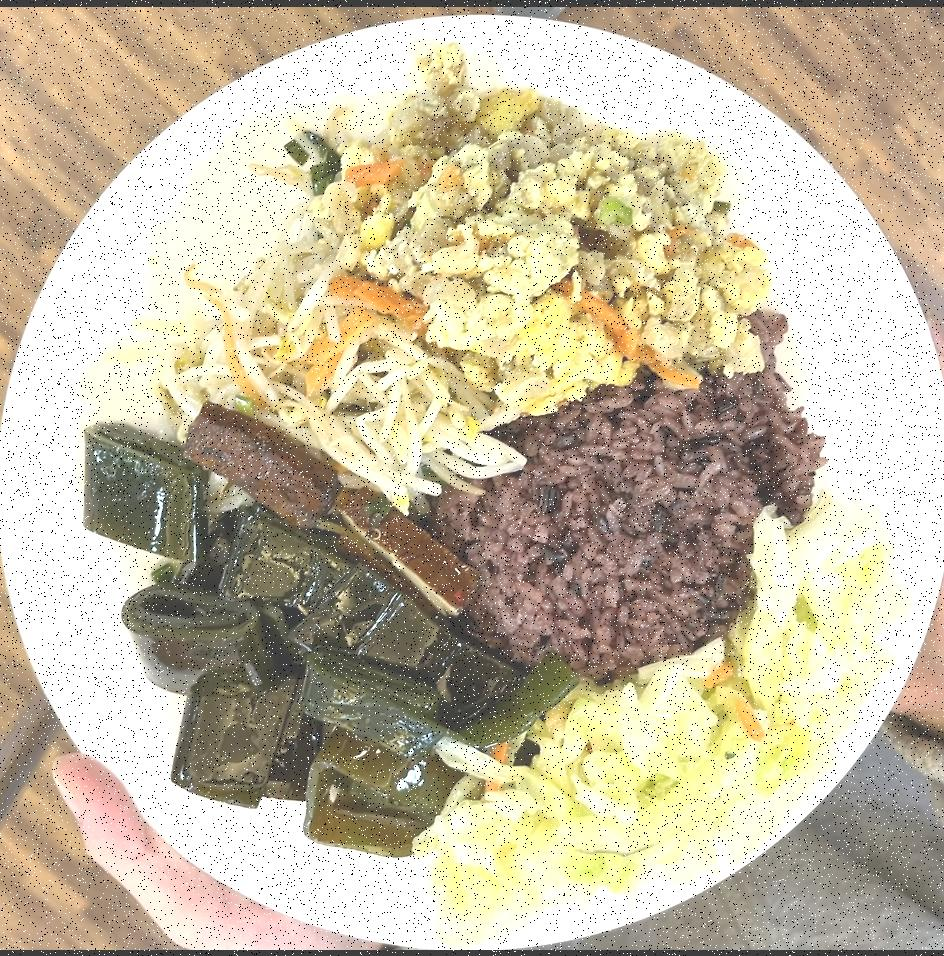big fried chicken leg: (0, 18, 944, 950)
braised fish: (462, 358, 814, 682)
braised fish fillet: (414, 496, 898, 938), (64, 426, 458, 855), (318, 80, 765, 390), (162, 254, 514, 502)
